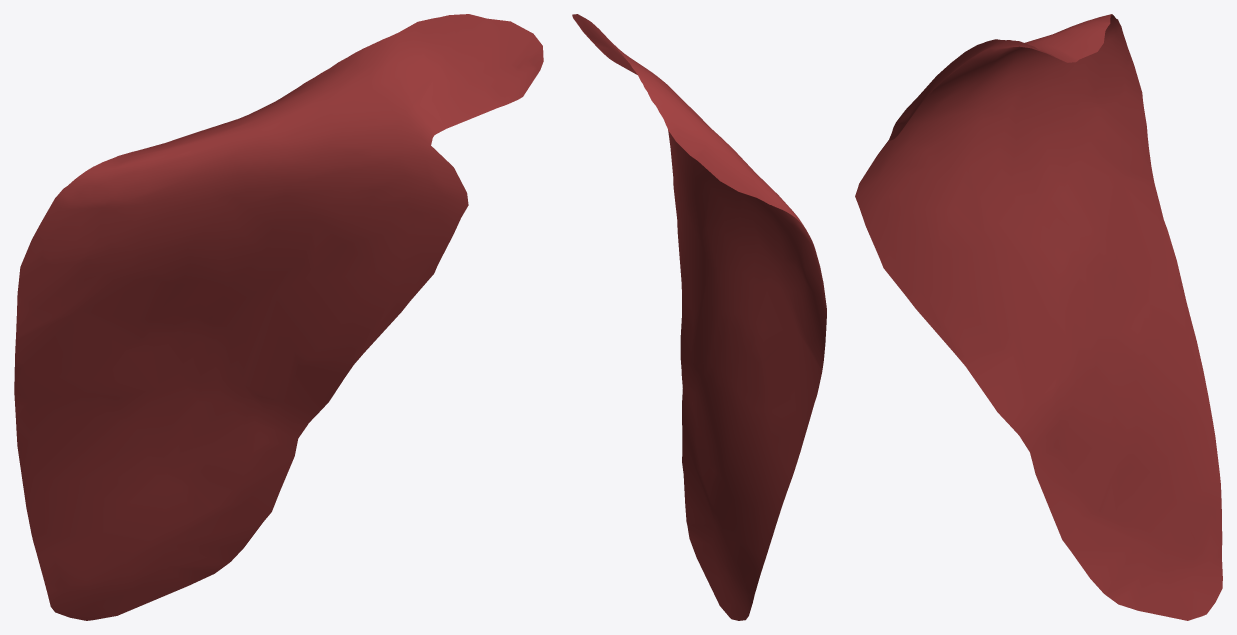
The model's file is infraspinatus-muscle-ol.glb.
3 renders of one model, left to right at view 1: azimuth 30°, elevation 25°; view 2: azimuth 150°, elevation 25°; view 3: azimuth 270°, elevation 25°, orthographic. The views are drawn at different scales.
Parts seen in each view (by area): view 1: Infraspinatus muscle.ol; view 2: Infraspinatus muscle.ol; view 3: Infraspinatus muscle.ol.
Boxes of the visible parts, x1,y1,x2,y2 form: Infraspinatus muscle.ol: (14,14,543,620); Infraspinatus muscle.ol: (572,14,826,620); Infraspinatus muscle.ol: (855,14,1222,620).
Bounding box in the file's own units: 0.0768 × 0.1065 × 0.0491.
